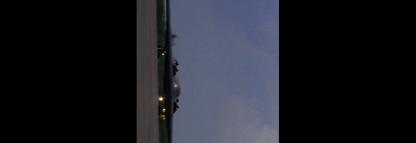B1: (158, 0, 182, 142)
